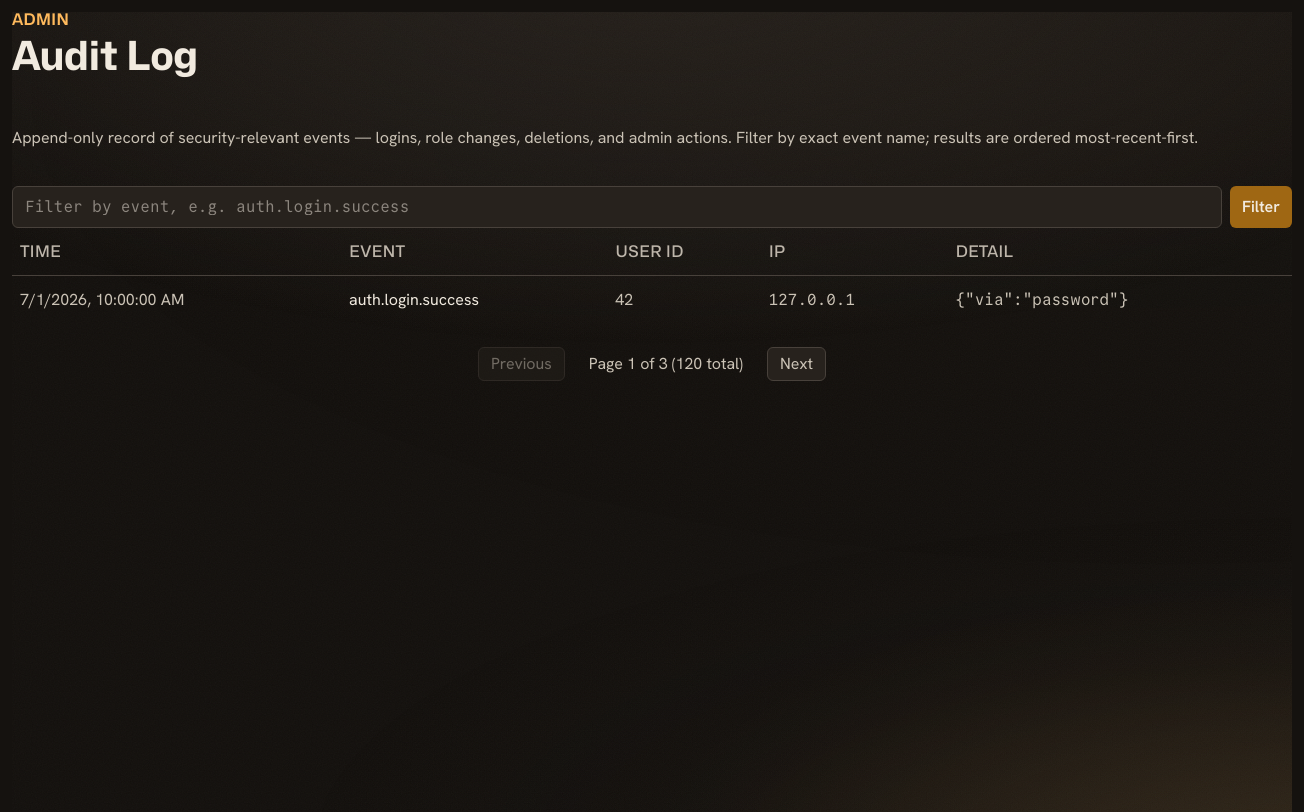
Test case: AdminAuditLog › submitting the filter form applies the trimmed event and resets to page 0
Click the button with test id "audit-log-next-btn": (796,364) left=767, top=347, right=826, bottom=381
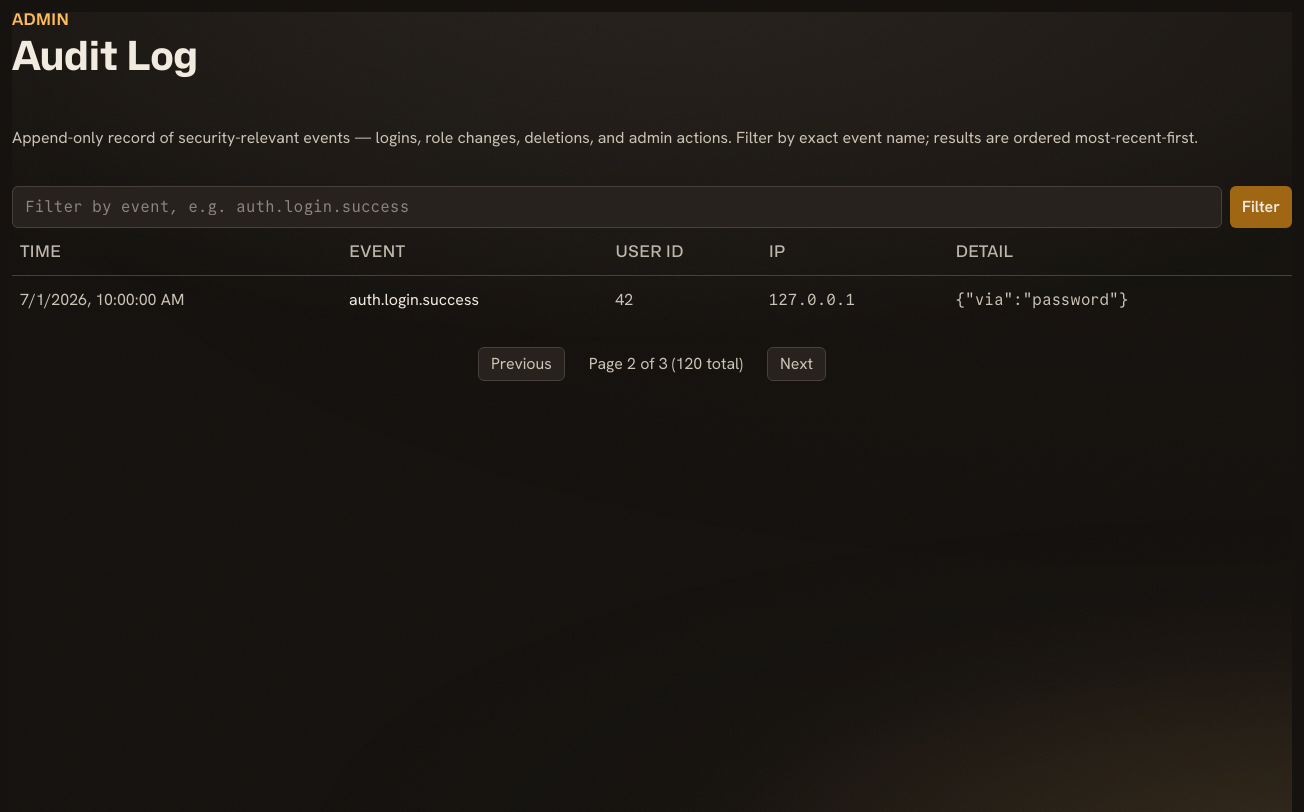
In the field with test id "audit-log-event-filter": (617,207) left=12, top=186, right=1222, bottom=228, type "  auth.login.success  "
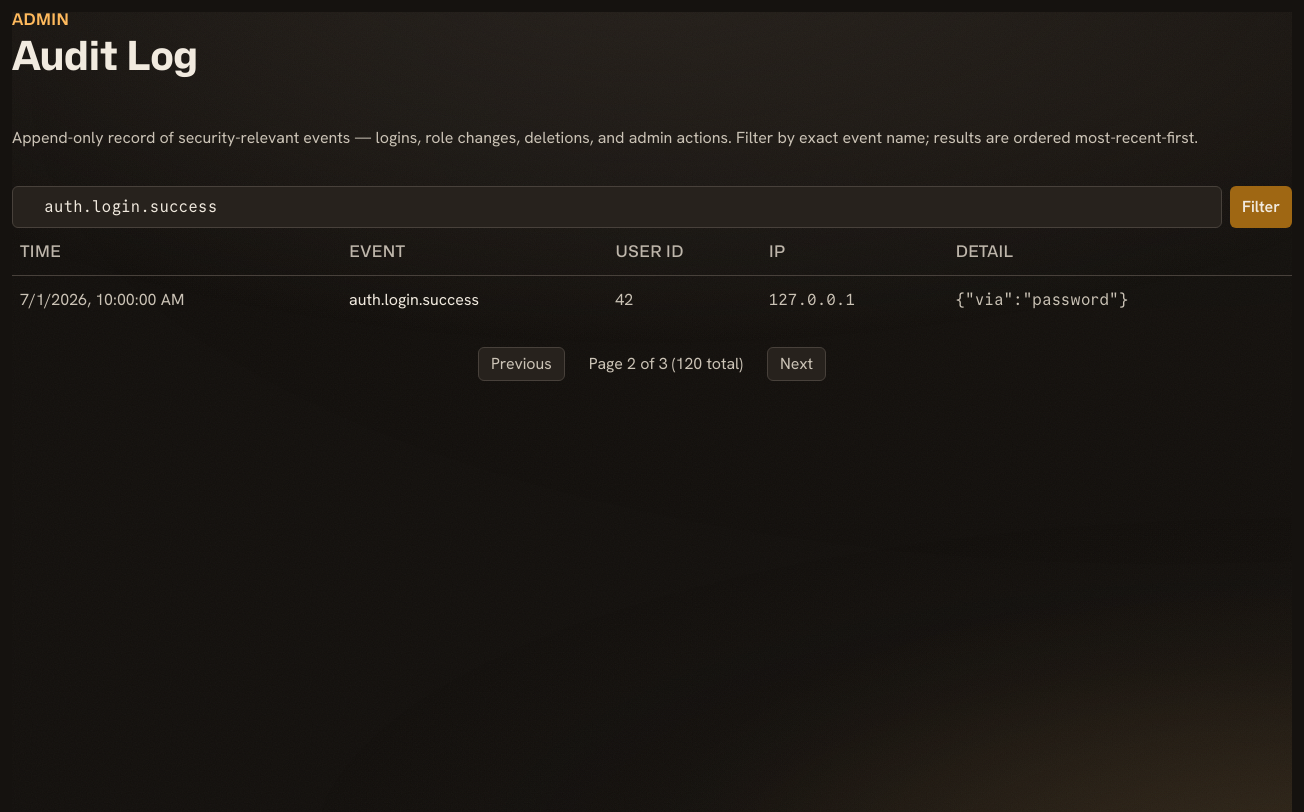
Submit the form with test id "audit-log-filter-btn", box left=12, top=186, right=1292, bottom=228
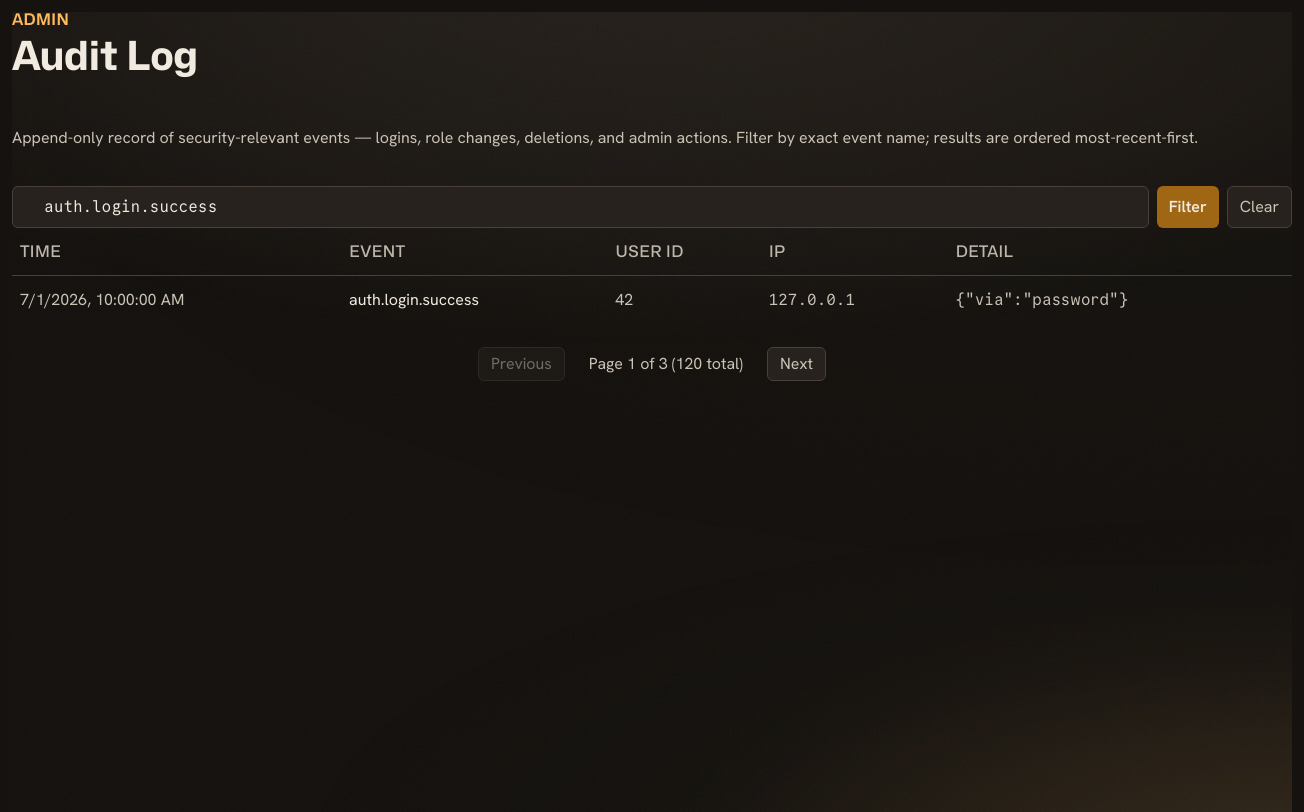
Check: the button with test id "audit-log-clear-btn" is shown, box left=1227, top=186, right=1292, bottom=228
